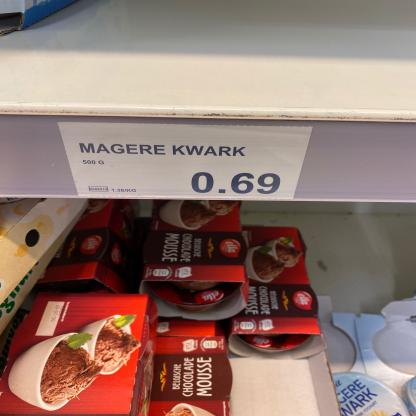prtg: (59, 123, 314, 200)
